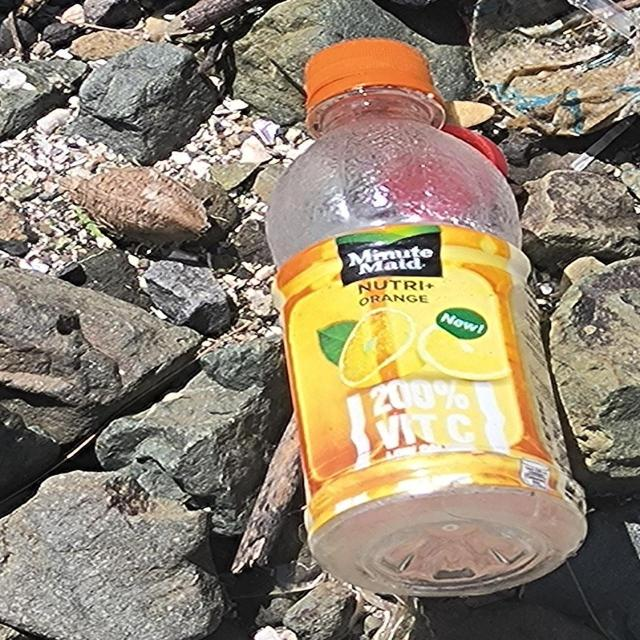plastic_waste: (262, 36, 592, 600)
